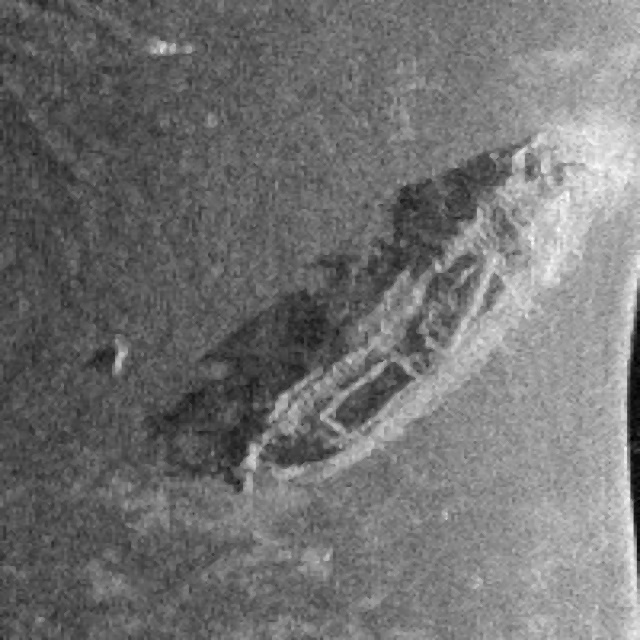Ship: (215, 116, 624, 503)
